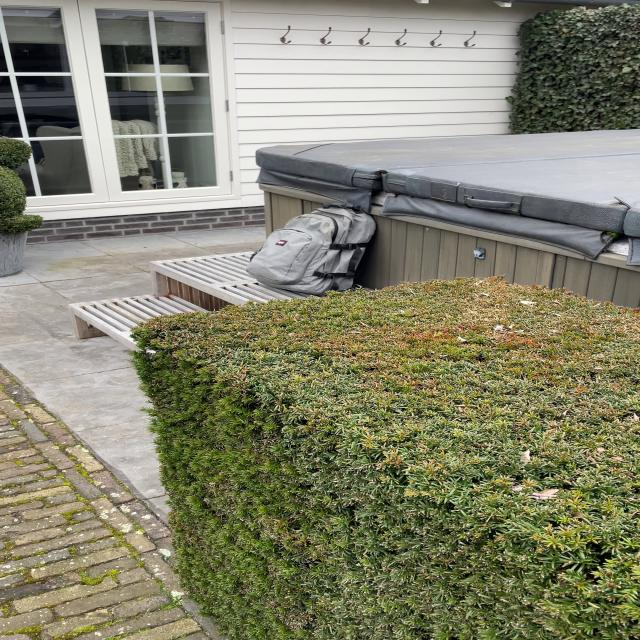backpack: (243, 201, 384, 299)
